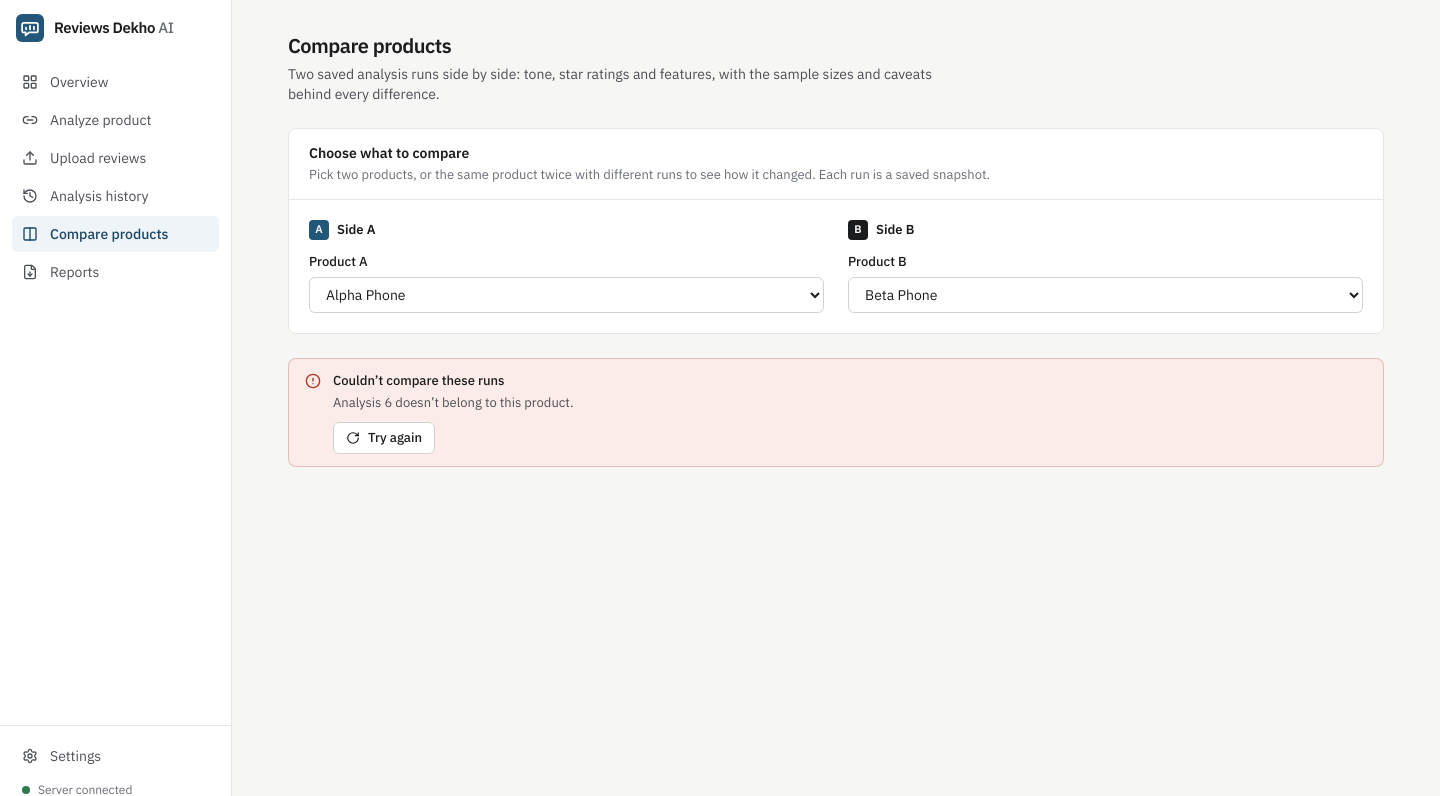
Test: Compare page: caveats and edge states › shows the server’s reason and can try again
Check: the text "Analysis 6 doesn’t belong to this product." is shown, box [333, 394, 573, 410]
Click the button "Try again" at (384, 438), box [333, 422, 435, 454]
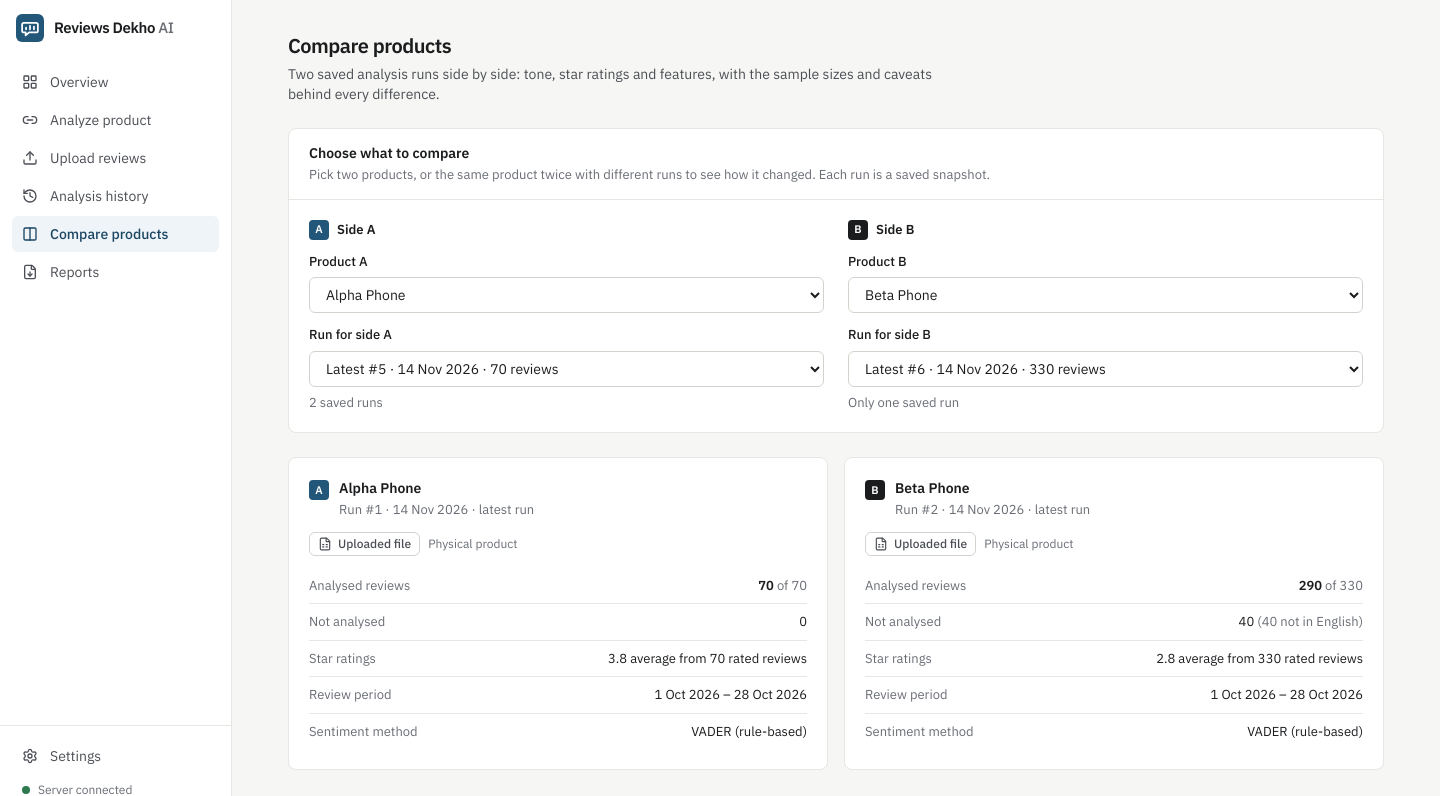
Check: the element named "Side A: Alpha Phone" is shown, box [288, 457, 828, 770]
